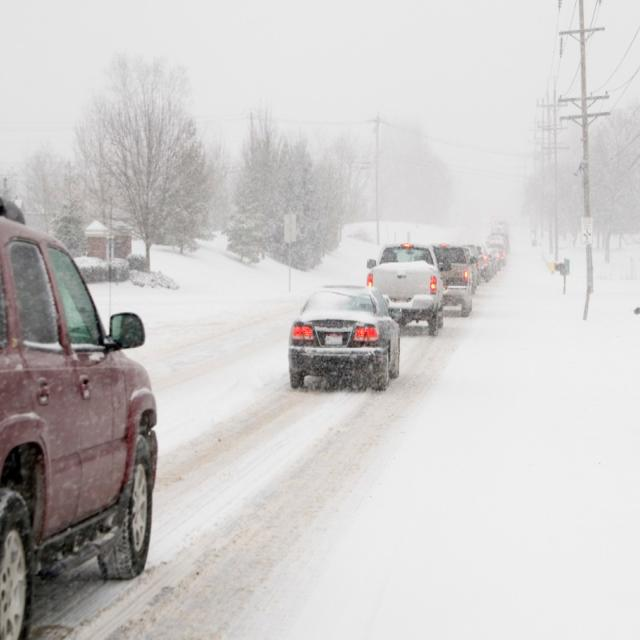car: (0, 208, 168, 640), (286, 282, 404, 392), (365, 252, 447, 334), (434, 239, 470, 324), (467, 242, 478, 296), (488, 238, 506, 266), (478, 242, 489, 278)
